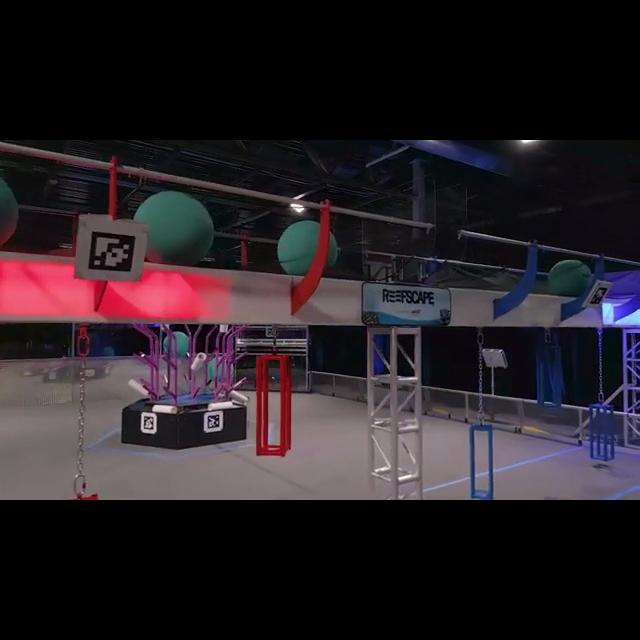ALGAE: (134, 192, 212, 268), (278, 220, 338, 280), (548, 260, 594, 300)
